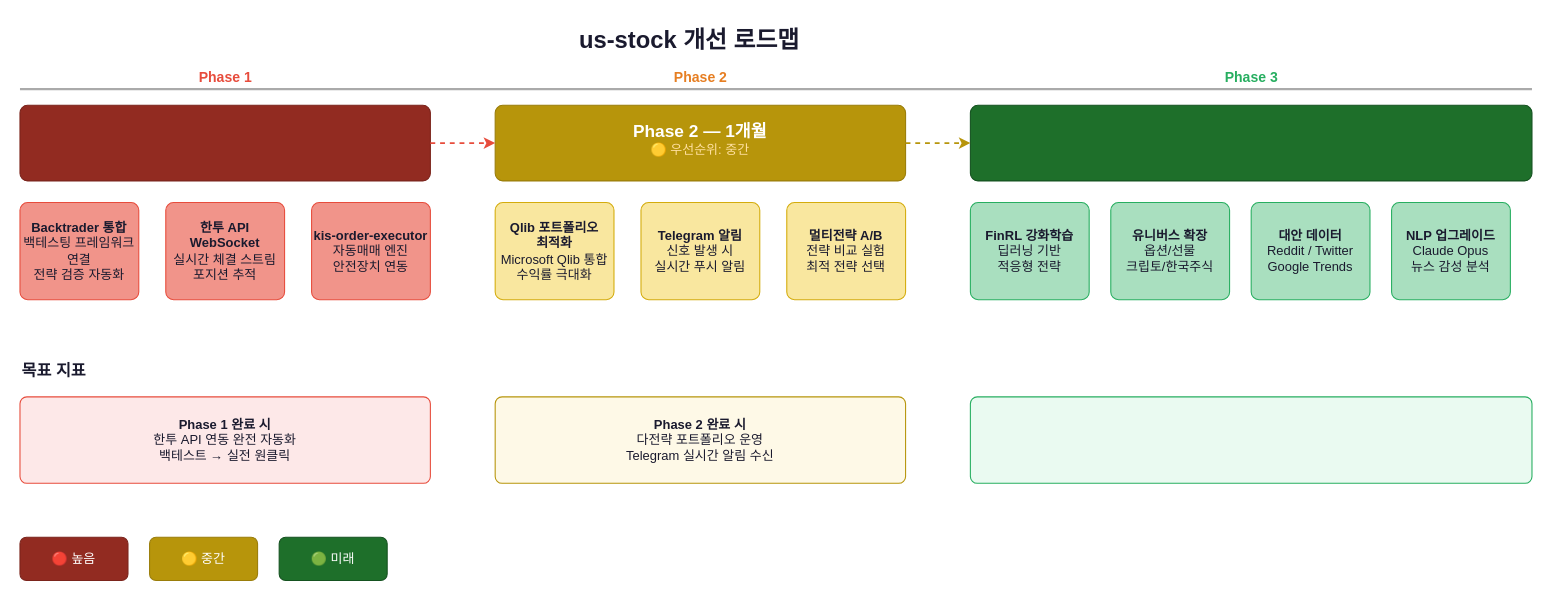
Some shapes in this 1551 by 599 pixel diagram are drawn without their labels. The shapes that lost their labels are listed below. From the top down, each one's centre as x and y in pixels, then its label:
At point (224, 142): "Phase 1 — 2주 🔴 우선순위: 높음".
At point (1250, 142): "Phase 3 — 3개월 🟢 우선순위: 미래 비전".
At point (1250, 439): "Phase 3 완료 시 강화학습 자율 전략 생성 멀티에셋 글로벌 운용 가능".
